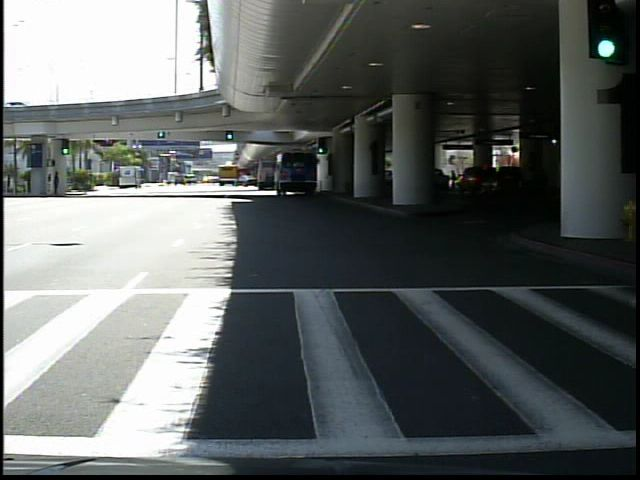striscie pedonali: (0, 259, 634, 461)
